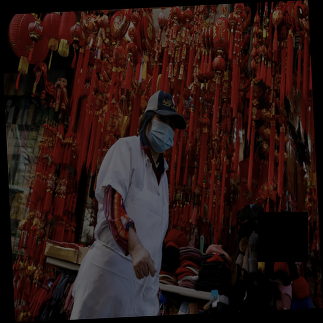with_mask: (65, 117, 108, 158)
